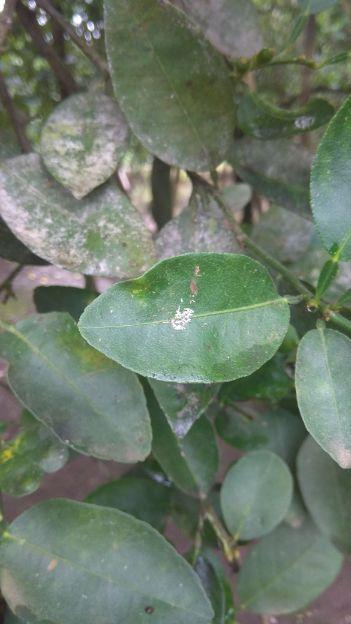Myzus persicae: (171, 307, 193, 330)
